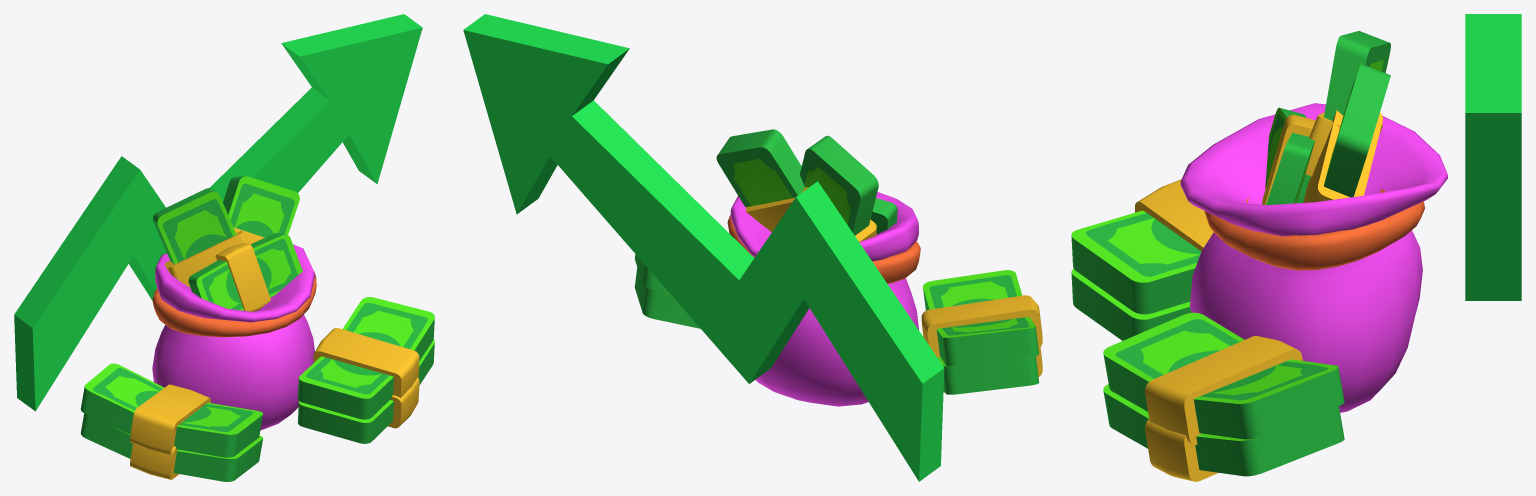
The model's file is paraKese (1).fbx.
The picture shows the model from 3 angles, left to right: view 1: azimuth 30°, elevation 25°; view 2: azimuth 150°, elevation 25°; view 3: azimuth 270°, elevation 25°; orthographic projection. The views are drawn at different scales.
Visible parts, largest first — view 1: Curve, paraKese, para.015, para.033, para.011, para.013, para.032, para.014, para.012; view 2: Curve, paraKese, para.033, para.014, para.013, para.032, para.012, para.011; view 3: paraKese, para.015, Curve, para.033, para.012, para.014, para.013, para.011, para.032.
Boxes of the visible parts, x1,y1,x2,y2 form: Curve: (14, 14, 422, 411); paraKese: (152, 244, 316, 430); para.015: (298, 297, 434, 419); para.033: (80, 363, 262, 457); para.011: (188, 233, 302, 311); para.013: (153, 188, 249, 287); para.032: (80, 413, 263, 481); para.014: (217, 176, 299, 244); para.012: (297, 339, 434, 443); Curve: (463, 14, 944, 481); paraKese: (727, 192, 920, 406); para.033: (921, 270, 1042, 366); para.014: (716, 129, 808, 231); para.013: (799, 135, 878, 241); para.032: (938, 347, 1042, 394); para.012: (634, 268, 700, 328); para.011: (870, 198, 897, 234); paraKese: (1180, 103, 1447, 412); para.015: (1103, 312, 1344, 444); Curve: (1465, 14, 1521, 300); para.033: (1071, 179, 1213, 314); para.012: (1103, 384, 1344, 481); para.014: (1303, 63, 1390, 202); para.013: (1296, 31, 1390, 203); para.011: (1262, 107, 1315, 205); para.032: (1071, 269, 1191, 340).
Bounding box in the file's own units: 322 × 231 × 203.
